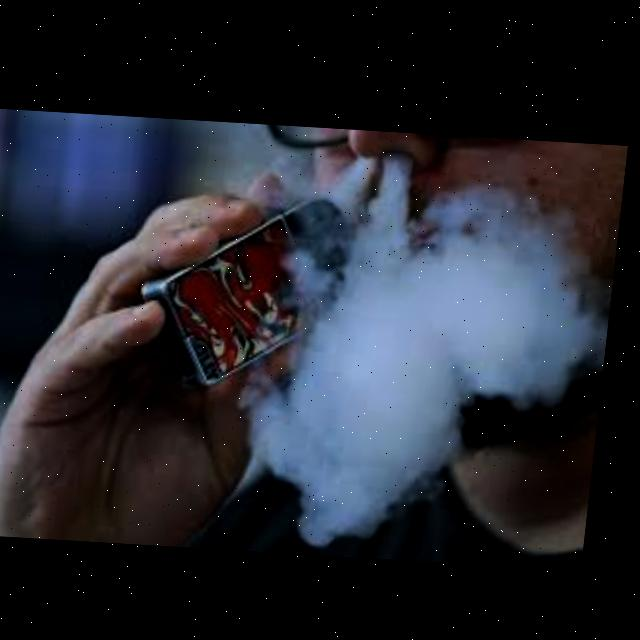vape: (140, 183, 364, 393)
